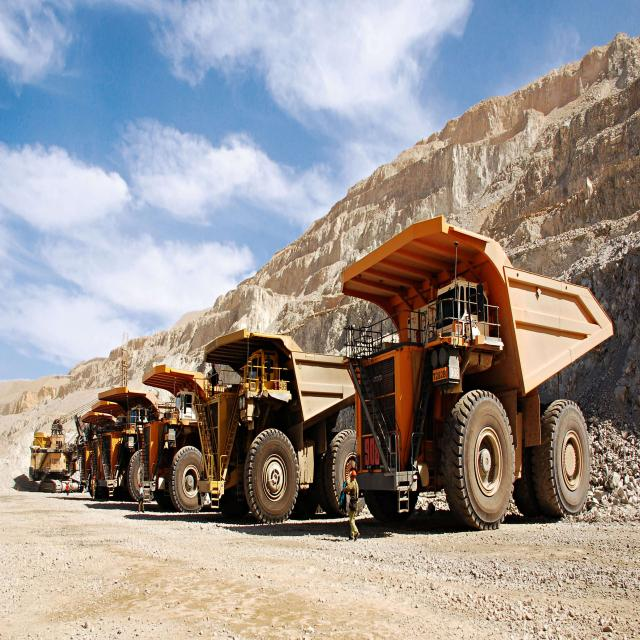dump_truck: (337, 212, 619, 534), (194, 323, 366, 518), (142, 364, 218, 514), (96, 378, 157, 500)
